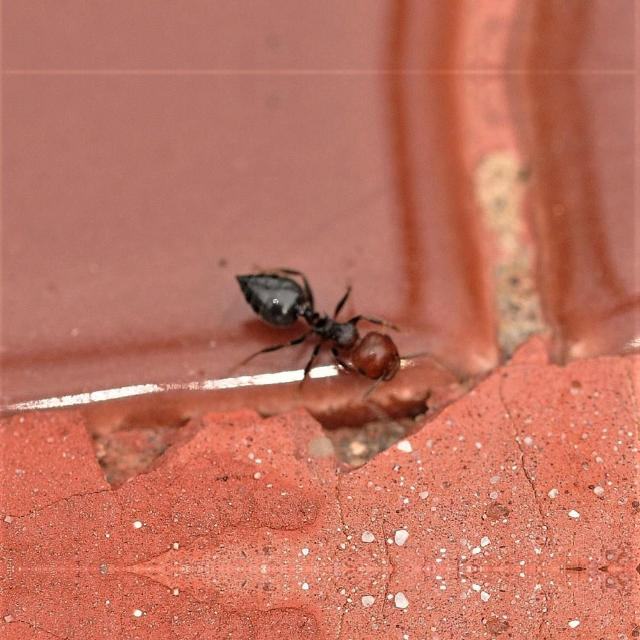Crematogaster: (223, 248, 411, 392)
